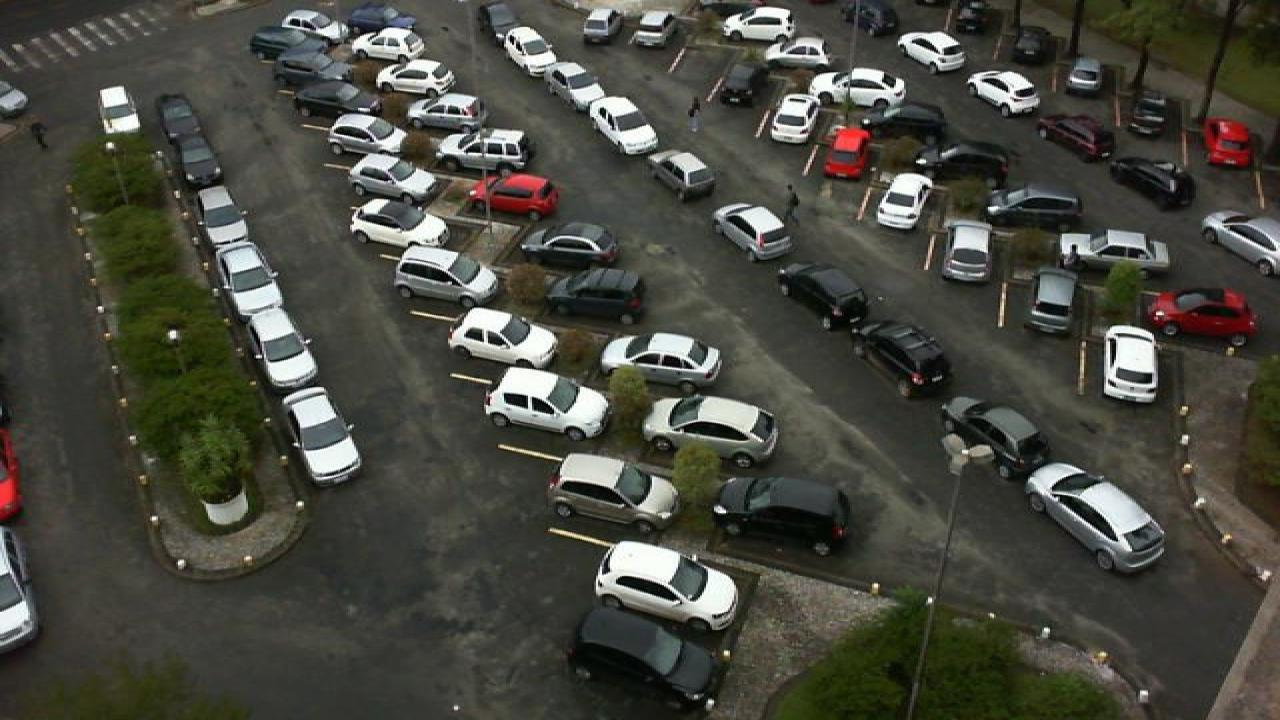Car: (566, 604, 730, 714), (1024, 461, 1168, 575), (592, 539, 746, 633), (548, 450, 686, 538), (712, 475, 852, 559), (642, 390, 782, 472), (938, 395, 1052, 483), (482, 367, 612, 442), (278, 387, 364, 488), (854, 318, 956, 400), (598, 331, 726, 395), (446, 308, 564, 372), (392, 244, 500, 308), (774, 261, 874, 329), (544, 266, 650, 328), (1144, 287, 1260, 341), (244, 308, 322, 388), (346, 197, 452, 249), (0, 526, 42, 654), (1200, 209, 1280, 276), (712, 202, 796, 264), (982, 182, 1086, 232), (516, 220, 622, 269), (1058, 227, 1172, 271), (584, 94, 662, 158), (218, 244, 288, 315), (808, 66, 910, 114), (468, 171, 562, 223), (1110, 156, 1198, 210), (1102, 324, 1160, 405), (350, 152, 440, 202), (434, 127, 530, 171), (1034, 113, 1112, 163), (290, 78, 378, 122), (196, 185, 256, 248), (966, 69, 1042, 118), (326, 112, 408, 156), (646, 149, 718, 199), (940, 219, 996, 282), (874, 173, 932, 233), (406, 91, 486, 134), (928, 141, 1014, 181), (864, 104, 950, 144), (1026, 269, 1078, 334), (374, 59, 458, 99), (542, 56, 606, 108), (898, 30, 968, 74), (822, 126, 874, 181), (248, 22, 322, 60), (768, 92, 820, 146), (720, 6, 798, 42), (500, 26, 556, 75), (276, 56, 352, 92), (718, 64, 778, 108), (350, 28, 426, 62), (176, 134, 222, 190), (98, 86, 146, 138), (156, 92, 202, 144), (764, 36, 830, 72), (840, 0, 902, 38), (1206, 116, 1250, 168), (278, 9, 346, 41), (0, 428, 22, 524), (626, 9, 676, 51), (350, 2, 416, 33), (1128, 87, 1168, 136), (478, 0, 524, 40), (1066, 57, 1108, 98), (582, 7, 624, 45), (1002, 26, 1042, 65), (954, 0, 990, 38)
